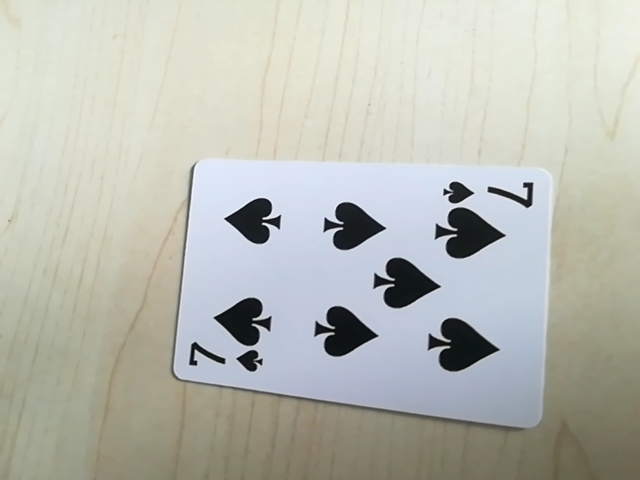ht 7: (438, 172, 542, 208), (178, 344, 271, 379)
